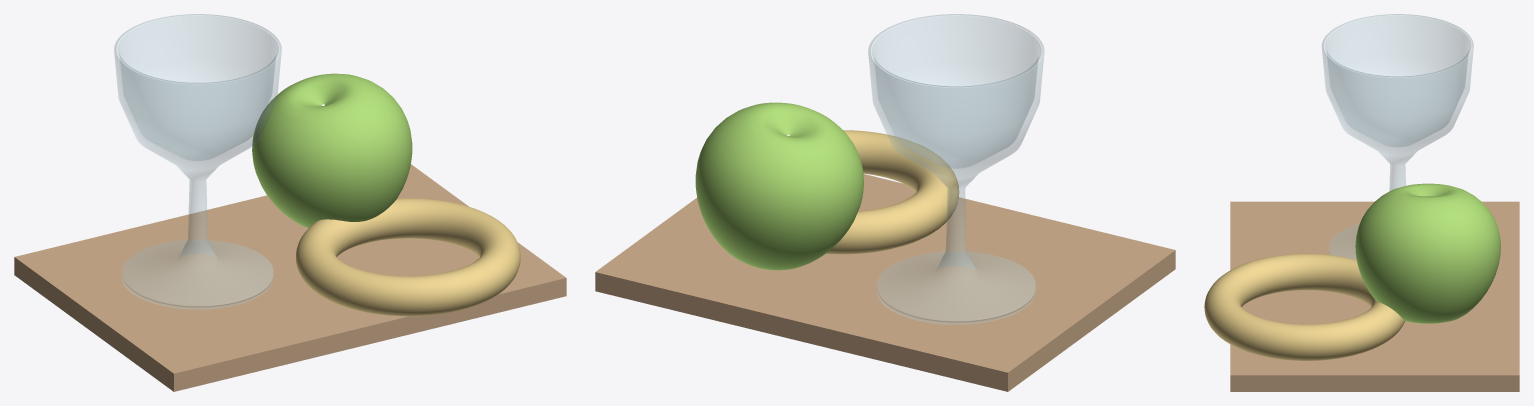
File: still_life.glb
The picture shows the model from 3 angles, left to right: view 1: azimuth 30°, elevation 25°; view 2: azimuth 150°, elevation 25°; view 3: azimuth 270°, elevation 25°; orthographic projection. The views are drawn at different scales.
Visible parts, largest first — view 1: table, goblet, apple, ring; view 2: table, goblet, apple, ring; view 3: table, goblet, apple, ring.
Boxes of the visible parts, x1,y1,x2,y2 form: table: (14,164,566,391); goblet: (114,14,281,309); apple: (252,73,412,228); ring: (296,198,520,316); table: (595,174,1175,391); goblet: (868,14,1044,324); apple: (695,102,863,270); ring: (788,130,959,254); table: (1230,201,1519,391); goblet: (1322,14,1473,259); apple: (1355,183,1500,323); ring: (1204,253,1405,360).
Size of the model in its own units: 5.4 by 3.24 by 4.14.
